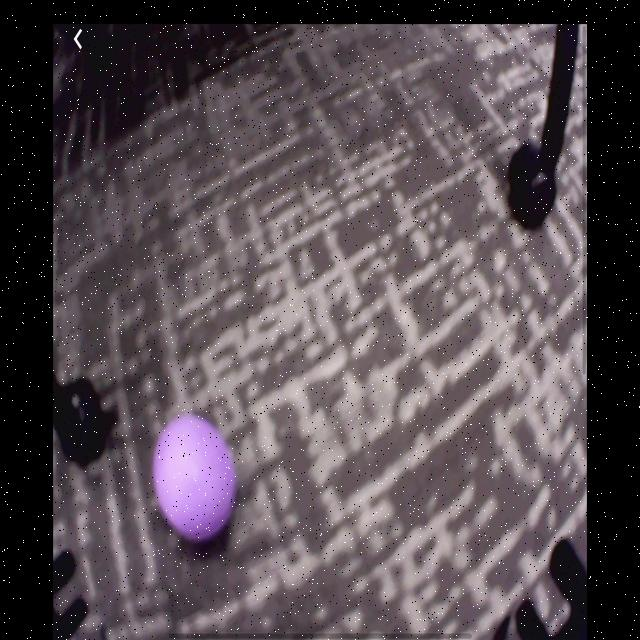ball: (153, 415, 238, 539)
